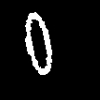chain: (25, 12, 51, 74)
